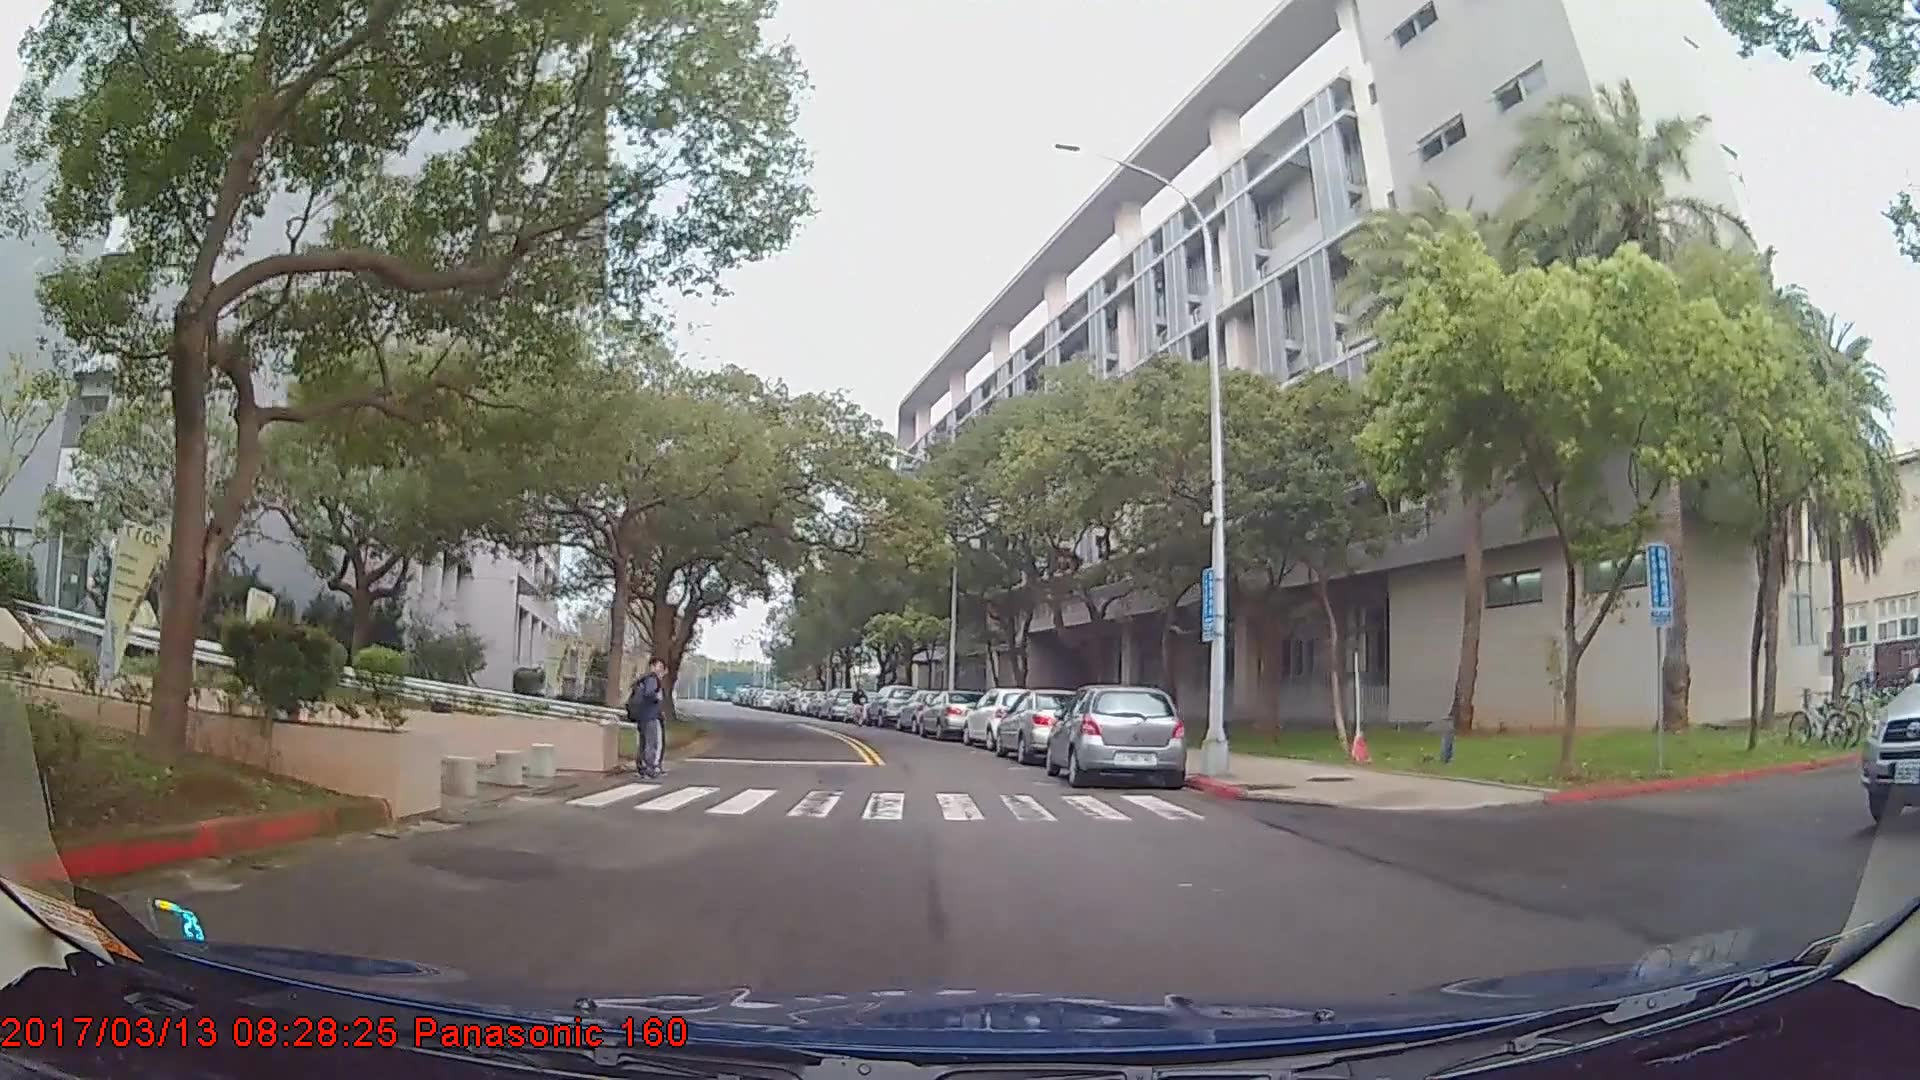pedestrian: (631, 656, 676, 784), (852, 684, 872, 728)
vehicle: (1045, 681, 1184, 787), (992, 687, 1090, 762), (961, 685, 1048, 750), (917, 687, 987, 740), (865, 680, 920, 725)
